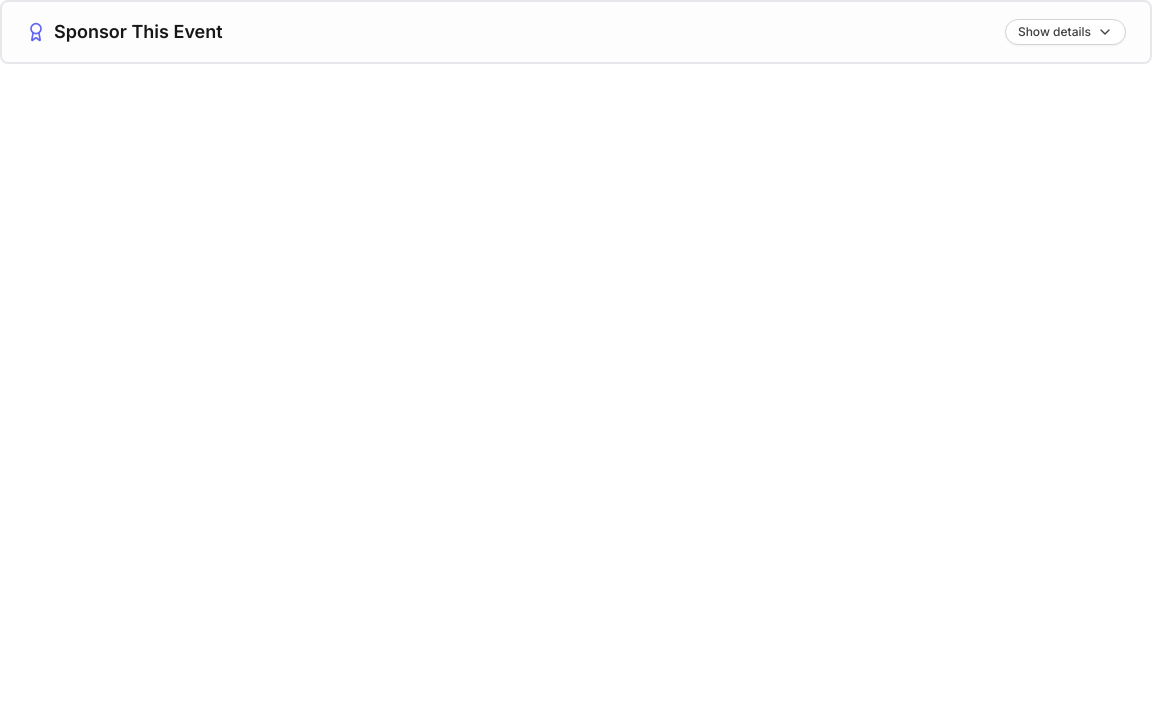
SponsorSection — Phase 6A.157 package integration › opens the purchase modal scoped to the clicked package
The image size is (1152, 714).
Click the heading "Sponsor This Event": point(138, 32) [54,21,223,42]
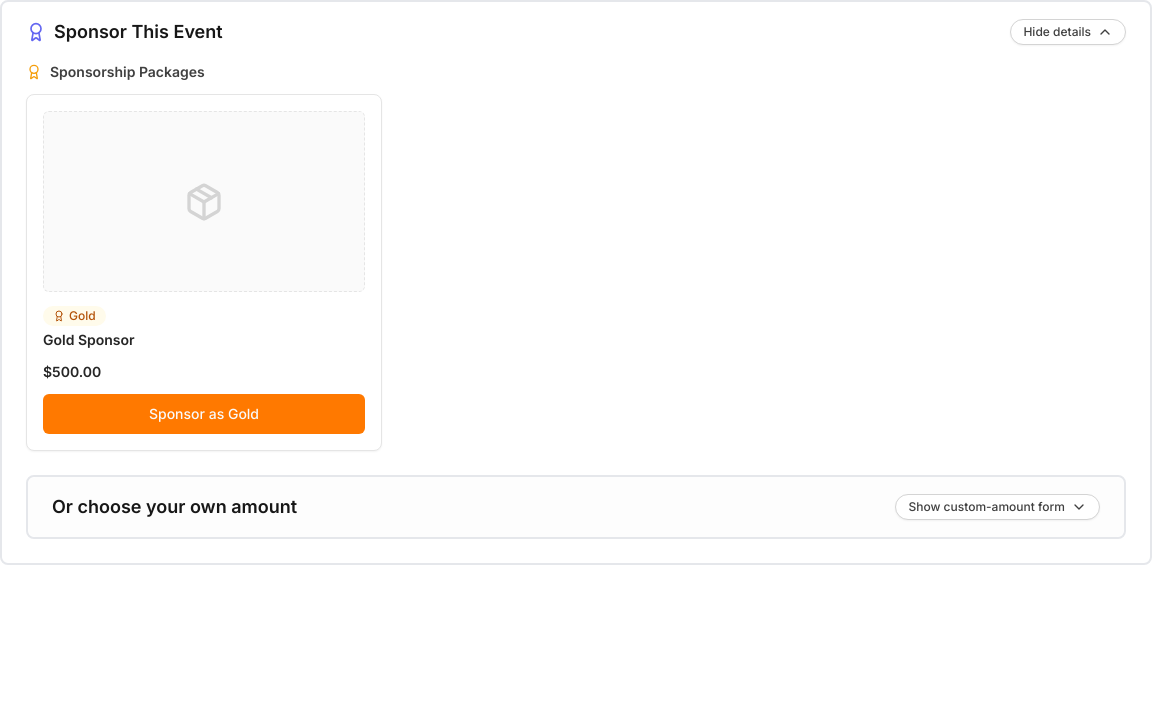
Expected: the text "Sponsor — Gold Sponsor" is not shown
# Click the Sponsor CTA on the card → modal header should appear
Click the button "Sponsor as Gold": point(204, 414) [43,394,365,434]
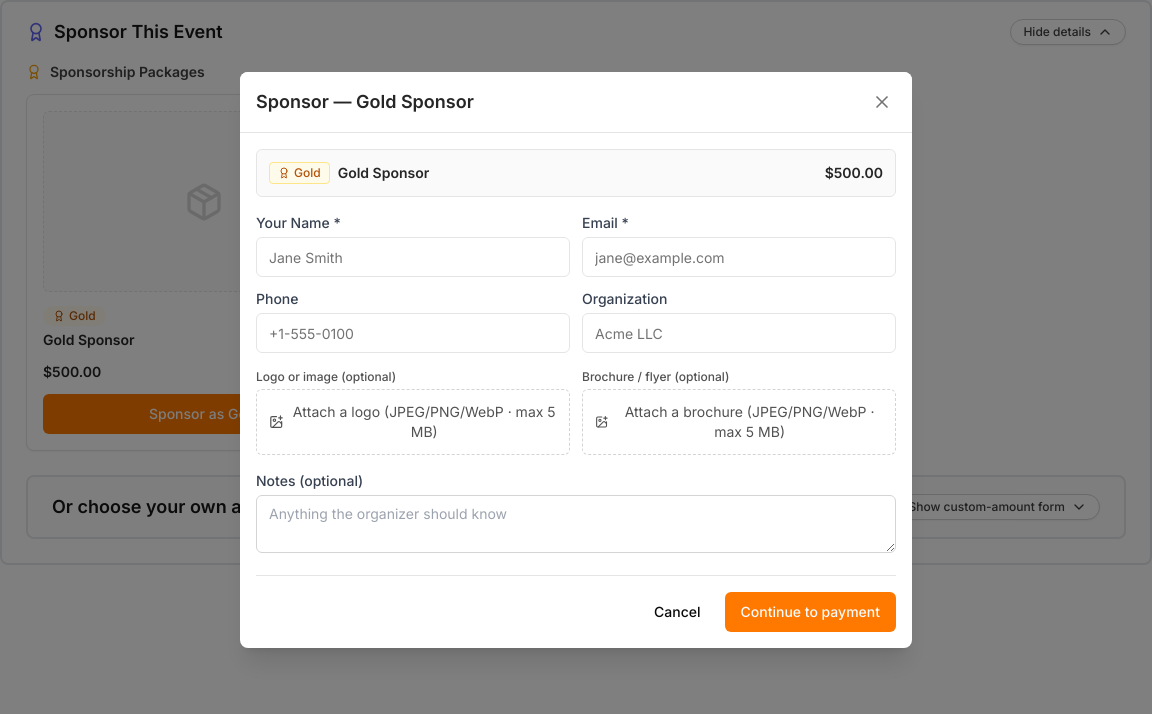
Now the heading "Sponsor — Gold Sponsor" is shown, box [256,88,474,116]
